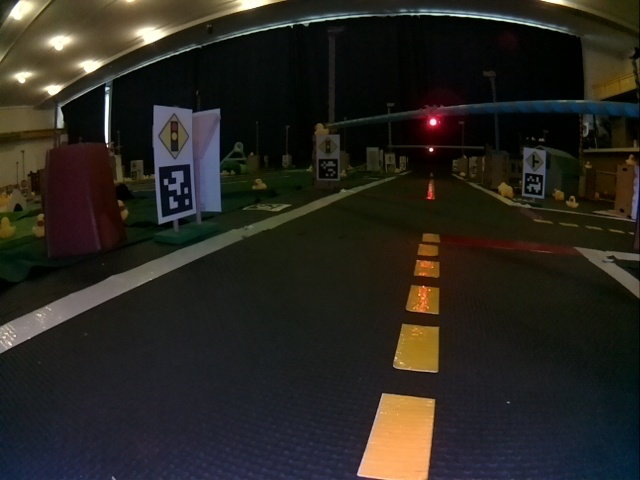Duckie: (34, 213, 45, 237), (1, 217, 14, 237), (118, 201, 128, 220), (252, 179, 266, 189), (315, 124, 328, 134), (501, 186, 513, 196), (568, 196, 578, 208)
Intersection sign: (526, 149, 544, 171)
QR code: (156, 164, 195, 219), (524, 174, 544, 196), (319, 158, 339, 180), (244, 203, 288, 212)
Signal sign: (157, 109, 190, 159), (319, 137, 339, 157)
Traffic light: (425, 106, 442, 130)
